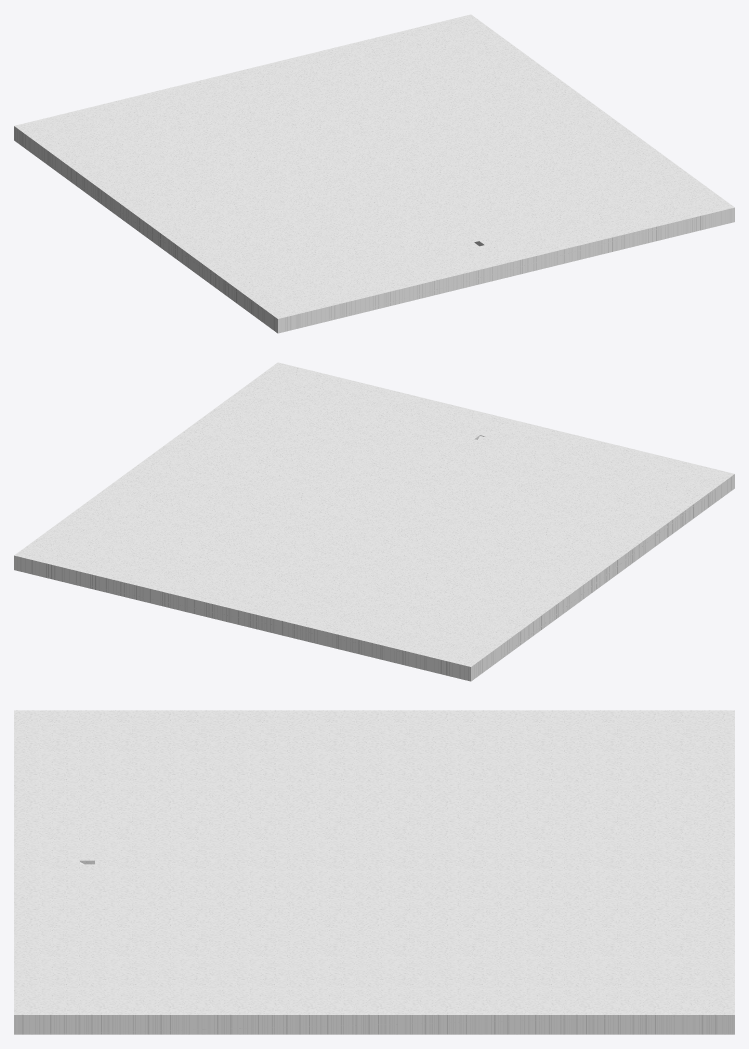
Rendered from welt1.glb.
3 views of the same model, one above another, from view 1: azimuth 30°, elevation 25°; view 2: azimuth 150°, elevation 25°; view 3: azimuth 270°, elevation 25° (orthographic). The views are drawn at different scales.
Parts seen in each view (by area): view 1: Plane.001; view 2: Plane.001; view 3: Plane.001.
Boxes of the visible parts, left/top/right/bottom form: Plane.001: left=14, top=14, right=734, bottom=333; Plane.001: left=14, top=362, right=734, bottom=681; Plane.001: left=14, top=710, right=734, bottom=1034.
Size of the model in its own units: 172 by 10.81 by 172.
Materials: 2 (2 with a texture image).
